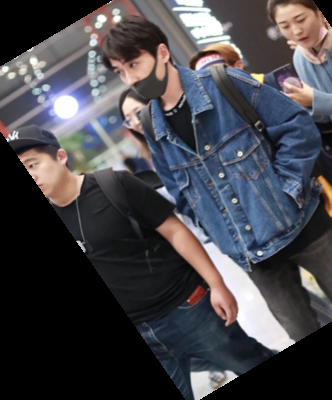mask_weared_incorrect: (87, 23, 195, 106)
